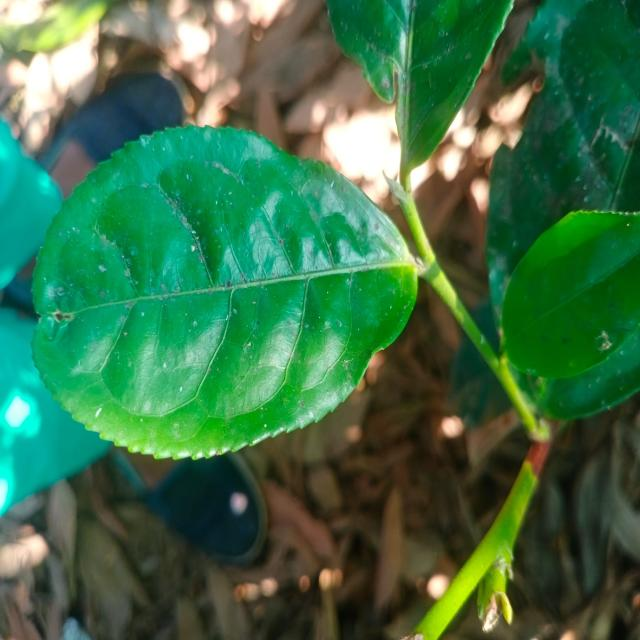Category D 7+ days, Not for Tea: (10, 110, 429, 477)
